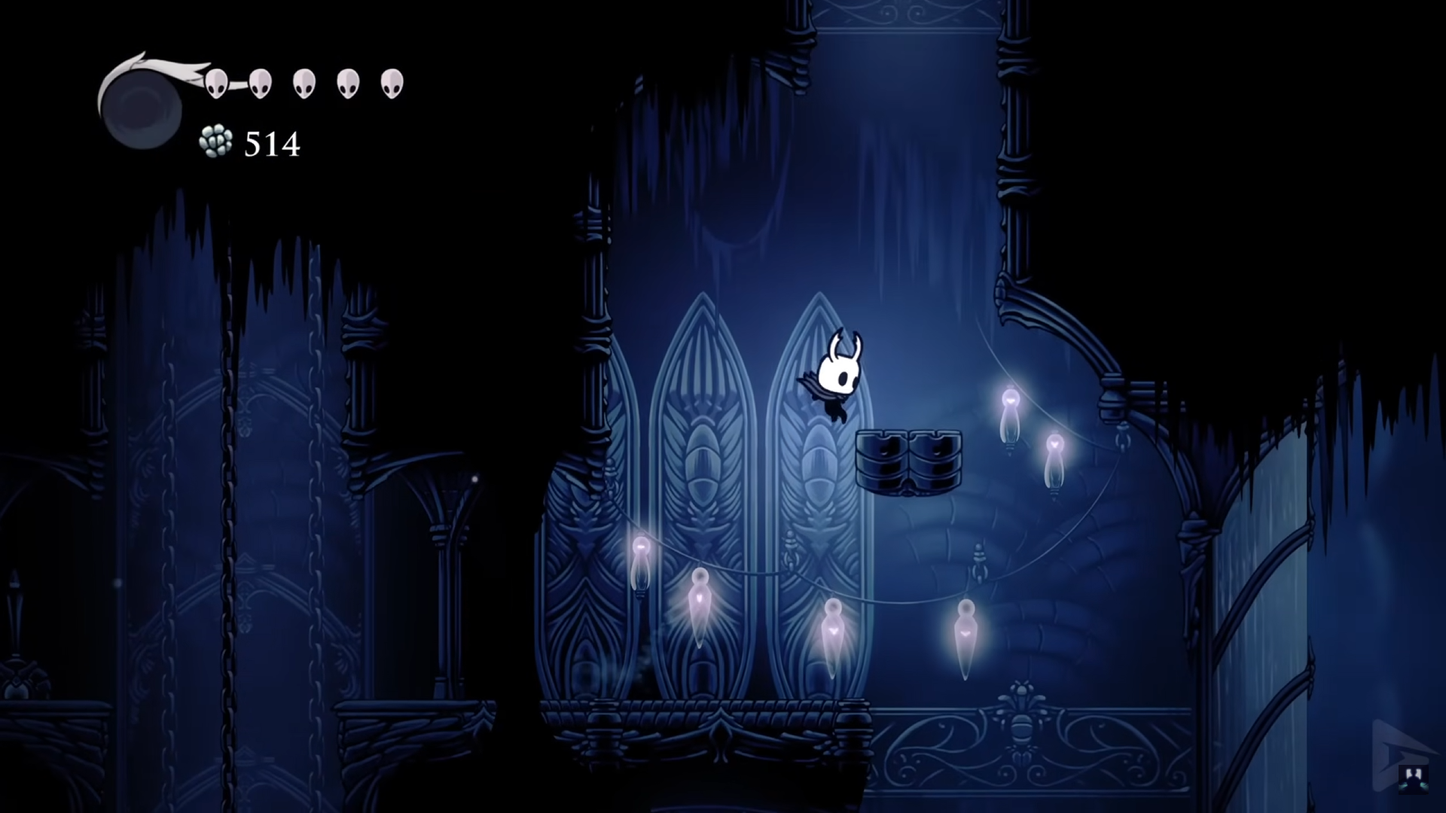HK: (801, 324, 869, 425)
